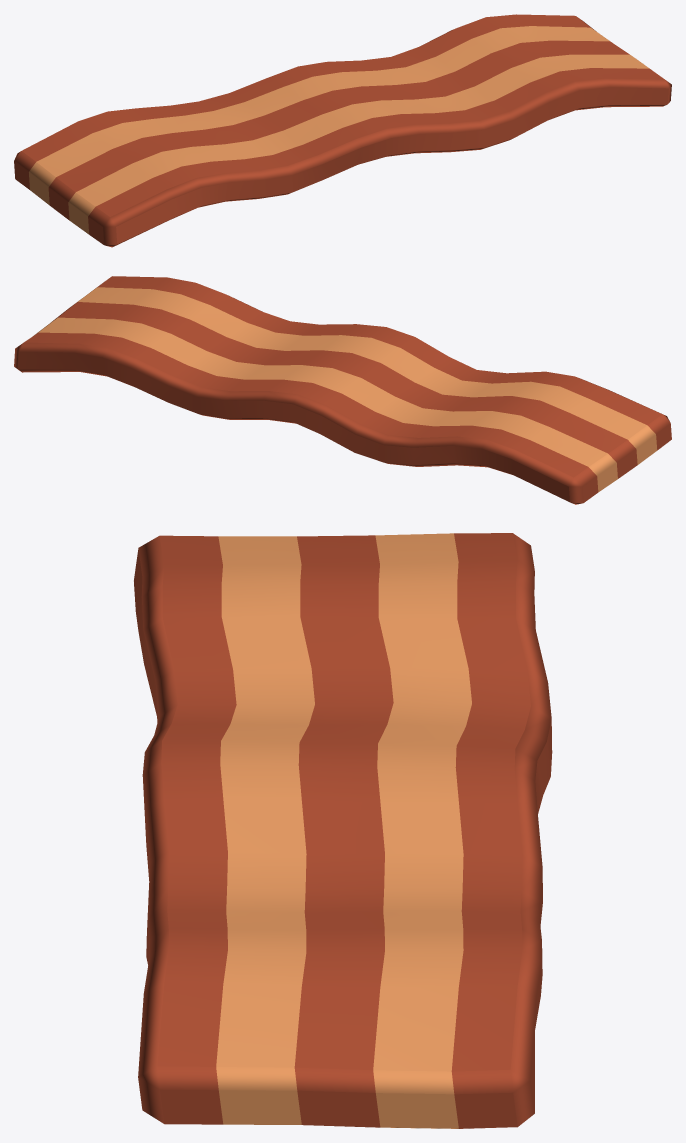
Rendered from Bacon.fbx.
3 renders of one model, top to bottom at view 1: azimuth 30°, elevation 25°; view 2: azimuth 150°, elevation 25°; view 3: azimuth 270°, elevation 25°, orthographic. The views are drawn at different scales.
Visible parts, largest first — view 1: Bacon; view 2: Bacon; view 3: Bacon.
Part boxes in pixels (left/top/right/bottom): Bacon: left=14, top=14, right=671, bottom=247; Bacon: left=14, top=276, right=671, bottom=504; Bacon: left=134, top=533, right=552, bottom=1128.
Size of the model in its own units: 15.27 by 1.27 by 4.88.
